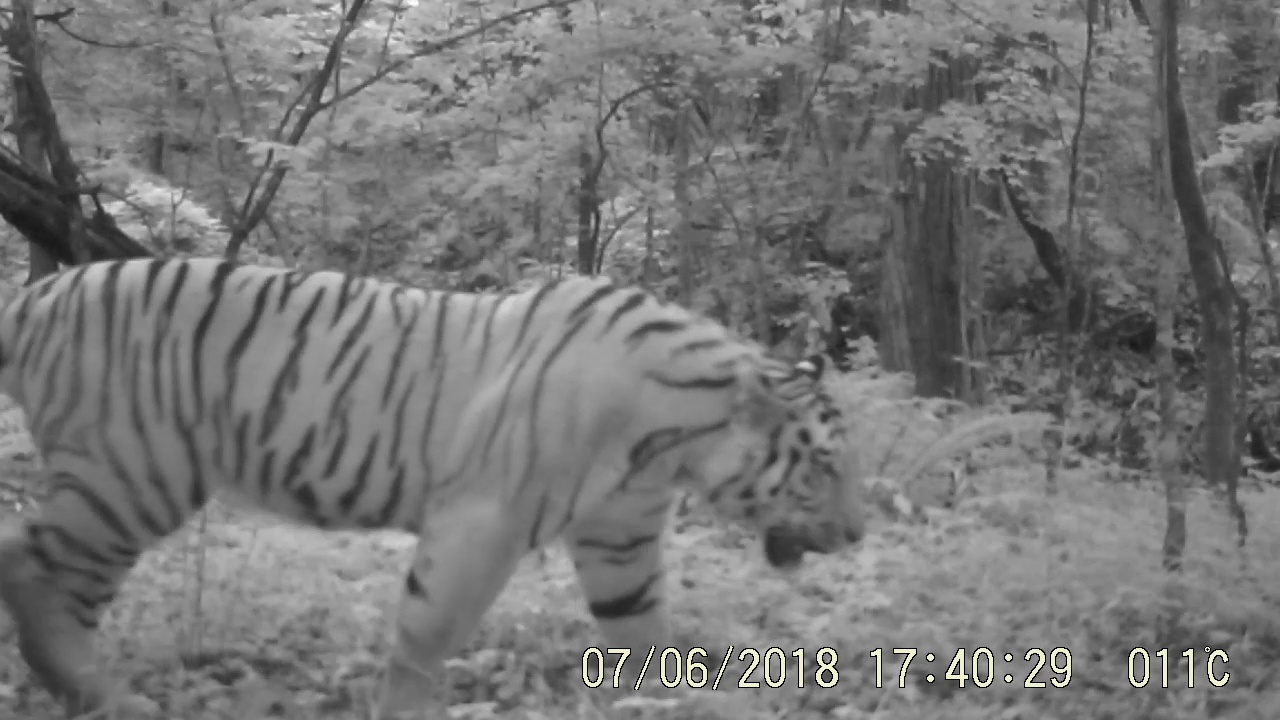Tiger: (4, 162, 998, 720)
